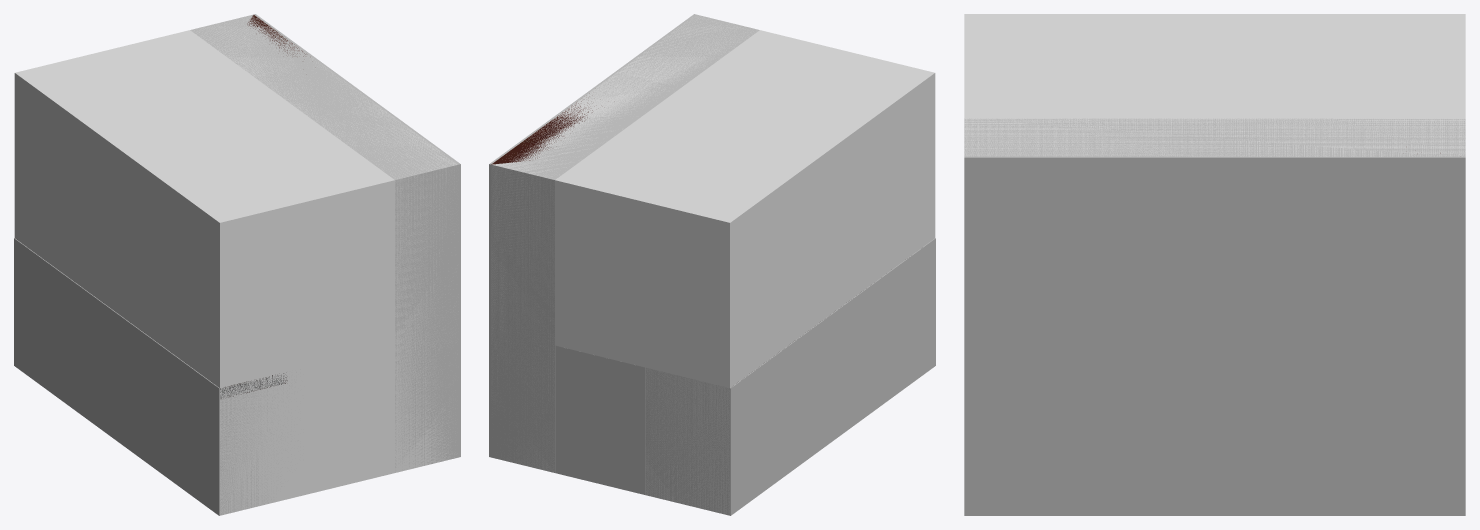
Rendered from bar.FBX.
The picture shows the model from 3 angles, left to right: view 1: azimuth 30°, elevation 25°; view 2: azimuth 150°, elevation 25°; view 3: azimuth 270°, elevation 25°; orthographic projection. The views are drawn at different scales.
Parts seen in each view (by area): view 1: bounds, colbox-1, colbox-2, bar; view 2: bounds, colbox-2, colbox-1, colbox-3, bar; view 3: colbox-1, bounds.
Boxes of the visible parts, left/top/right/bottom form: bounds: left=14, top=16, right=458, bottom=515; colbox-1: left=190, top=14, right=460, bottom=470; colbox-2: left=14, top=238, right=300, bottom=515; bar: left=220, top=15, right=305, bottom=398; bounds: left=491, top=16, right=935, bottom=515; colbox-2: left=645, top=238, right=935, bottom=515; colbox-1: left=489, top=14, right=759, bottom=472; colbox-3: left=555, top=346, right=644, bottom=494; bar: left=491, top=101, right=592, bottom=164; colbox-1: left=964, top=118, right=1465, bottom=515; bounds: left=964, top=14, right=1465, bottom=156.
Bounding box in the file's own units: 2512 × 2910 × 3693.
